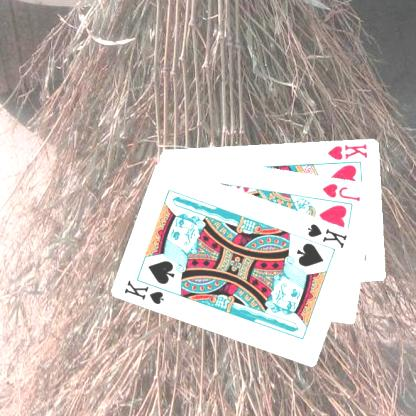JH: (320, 180, 362, 202)
KH: (325, 141, 369, 161)
KS: (122, 275, 173, 306), (304, 220, 349, 250)
